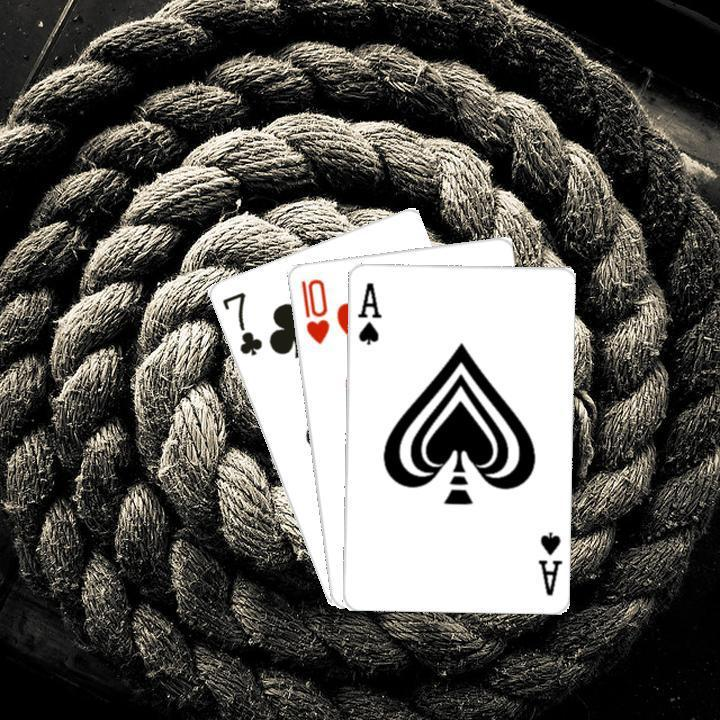10: (296, 274, 331, 346)
7: (217, 287, 264, 358)
A: (352, 277, 383, 346), (534, 526, 564, 597)
